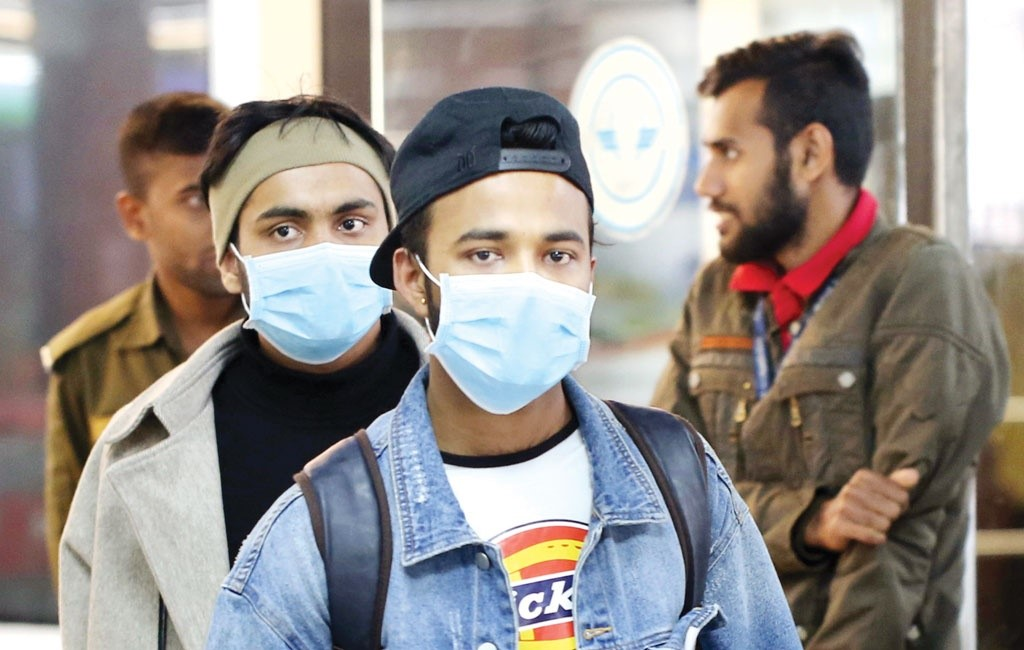face_no_mask: (693, 39, 868, 270), (120, 99, 217, 298)
face_with_mask: (392, 101, 592, 413), (218, 104, 397, 373)
